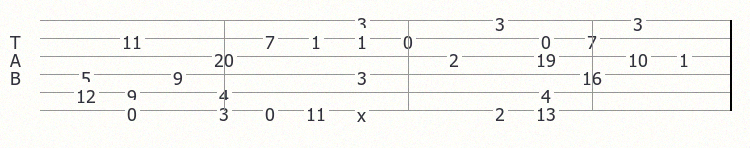0: (127, 102, 141, 119), (265, 102, 279, 119), (403, 30, 417, 47), (541, 30, 555, 47)
1: (311, 30, 325, 47), (357, 30, 371, 47), (679, 48, 693, 65)
10: (628, 48, 652, 65)
11: (122, 30, 146, 47), (306, 102, 330, 119)
12: (76, 84, 100, 101)
13: (536, 102, 560, 119)
16: (582, 66, 606, 83)
19: (536, 48, 560, 65)
2: (449, 48, 463, 65), (495, 102, 509, 119)
20: (214, 48, 238, 65)
3: (219, 102, 233, 119), (357, 12, 371, 29), (357, 66, 371, 83), (495, 12, 509, 29), (633, 12, 647, 29)
4: (219, 84, 233, 101), (541, 84, 555, 101)
5: (81, 66, 95, 83)
7: (265, 30, 279, 47), (587, 30, 601, 47)
9: (127, 84, 141, 101), (173, 66, 187, 83)
x: (357, 103, 370, 117)
